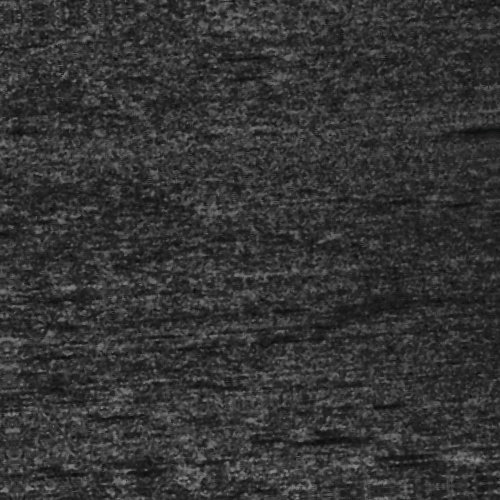object: (327, 437, 390, 446), (430, 469, 493, 476), (0, 119, 47, 128), (419, 459, 460, 466)
shadow: (263, 437, 358, 446), (366, 459, 439, 466), (389, 469, 461, 476), (456, 141, 500, 148)
